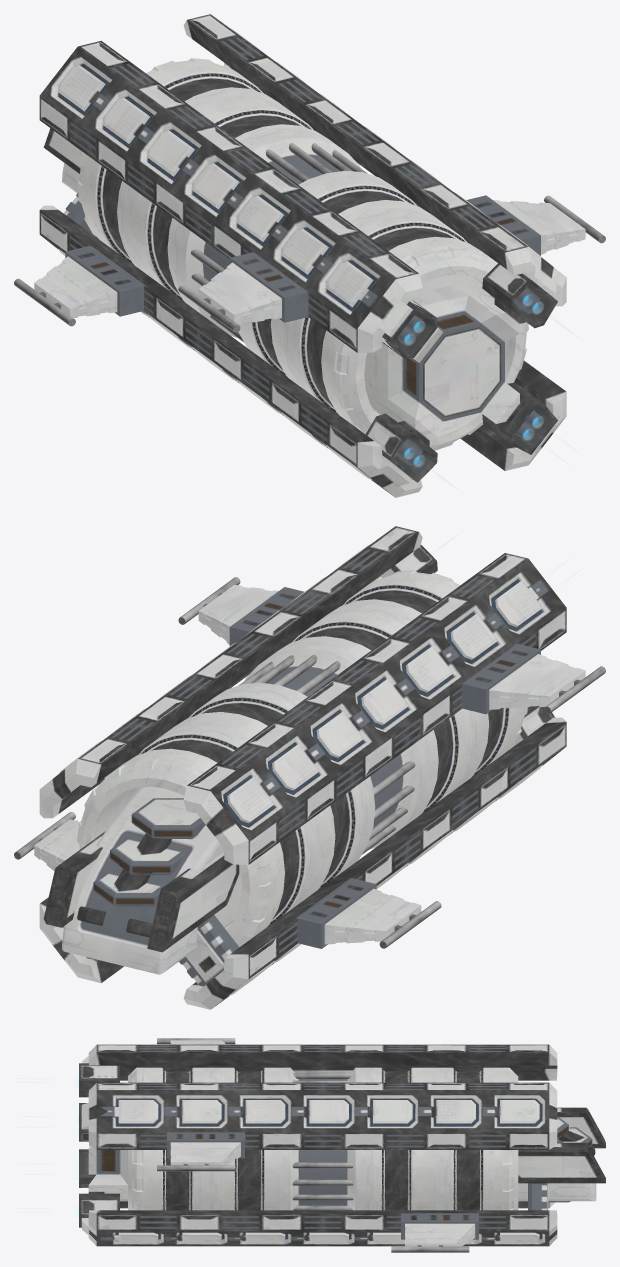
The model's file is holder-hero-zebra.glb.
3 views of the same model, one above another, from view 1: azimuth 30°, elevation 25°; view 2: azimuth 150°, elevation 25°; view 3: azimuth 270°, elevation 25° (orthographic). The views are drawn at different scales.
Parts seen in each view (by area): view 1: base, BarrelLP, CylindersLP, Cylinder.005, Cylinder.001; view 2: base, BarrelLP, CylindersLP, Cylinder.001, Cylinder.005; view 3: base, BarrelLP, CylindersLP, Cylinder.005, Cylinder.001.
Boxes of the visible parts, x1,y1,x2,y2 form: base: (34, 14, 585, 497); BarrelLP: (77, 58, 528, 450); CylindersLP: (191, 143, 367, 342); Cylinder.005: (178, 195, 605, 332); Cylinder.001: (14, 278, 75, 326); base: (34, 526, 585, 1009); BarrelLP: (77, 570, 527, 962); CylindersLP: (238, 655, 415, 854); Cylinder.001: (14, 812, 441, 948); Cylinder.005: (178, 577, 605, 713); base: (79, 1040, 605, 1246); BarrelLP: (128, 1067, 518, 1210); CylindersLP: (292, 1070, 353, 1210); Cylinder.005: (157, 1038, 235, 1171); Cylinder.001: (391, 1246, 469, 1252).
Bounding box in the file's own units: 7.85 × 4.4 × 15.17.
5 materials, 5 textured.
